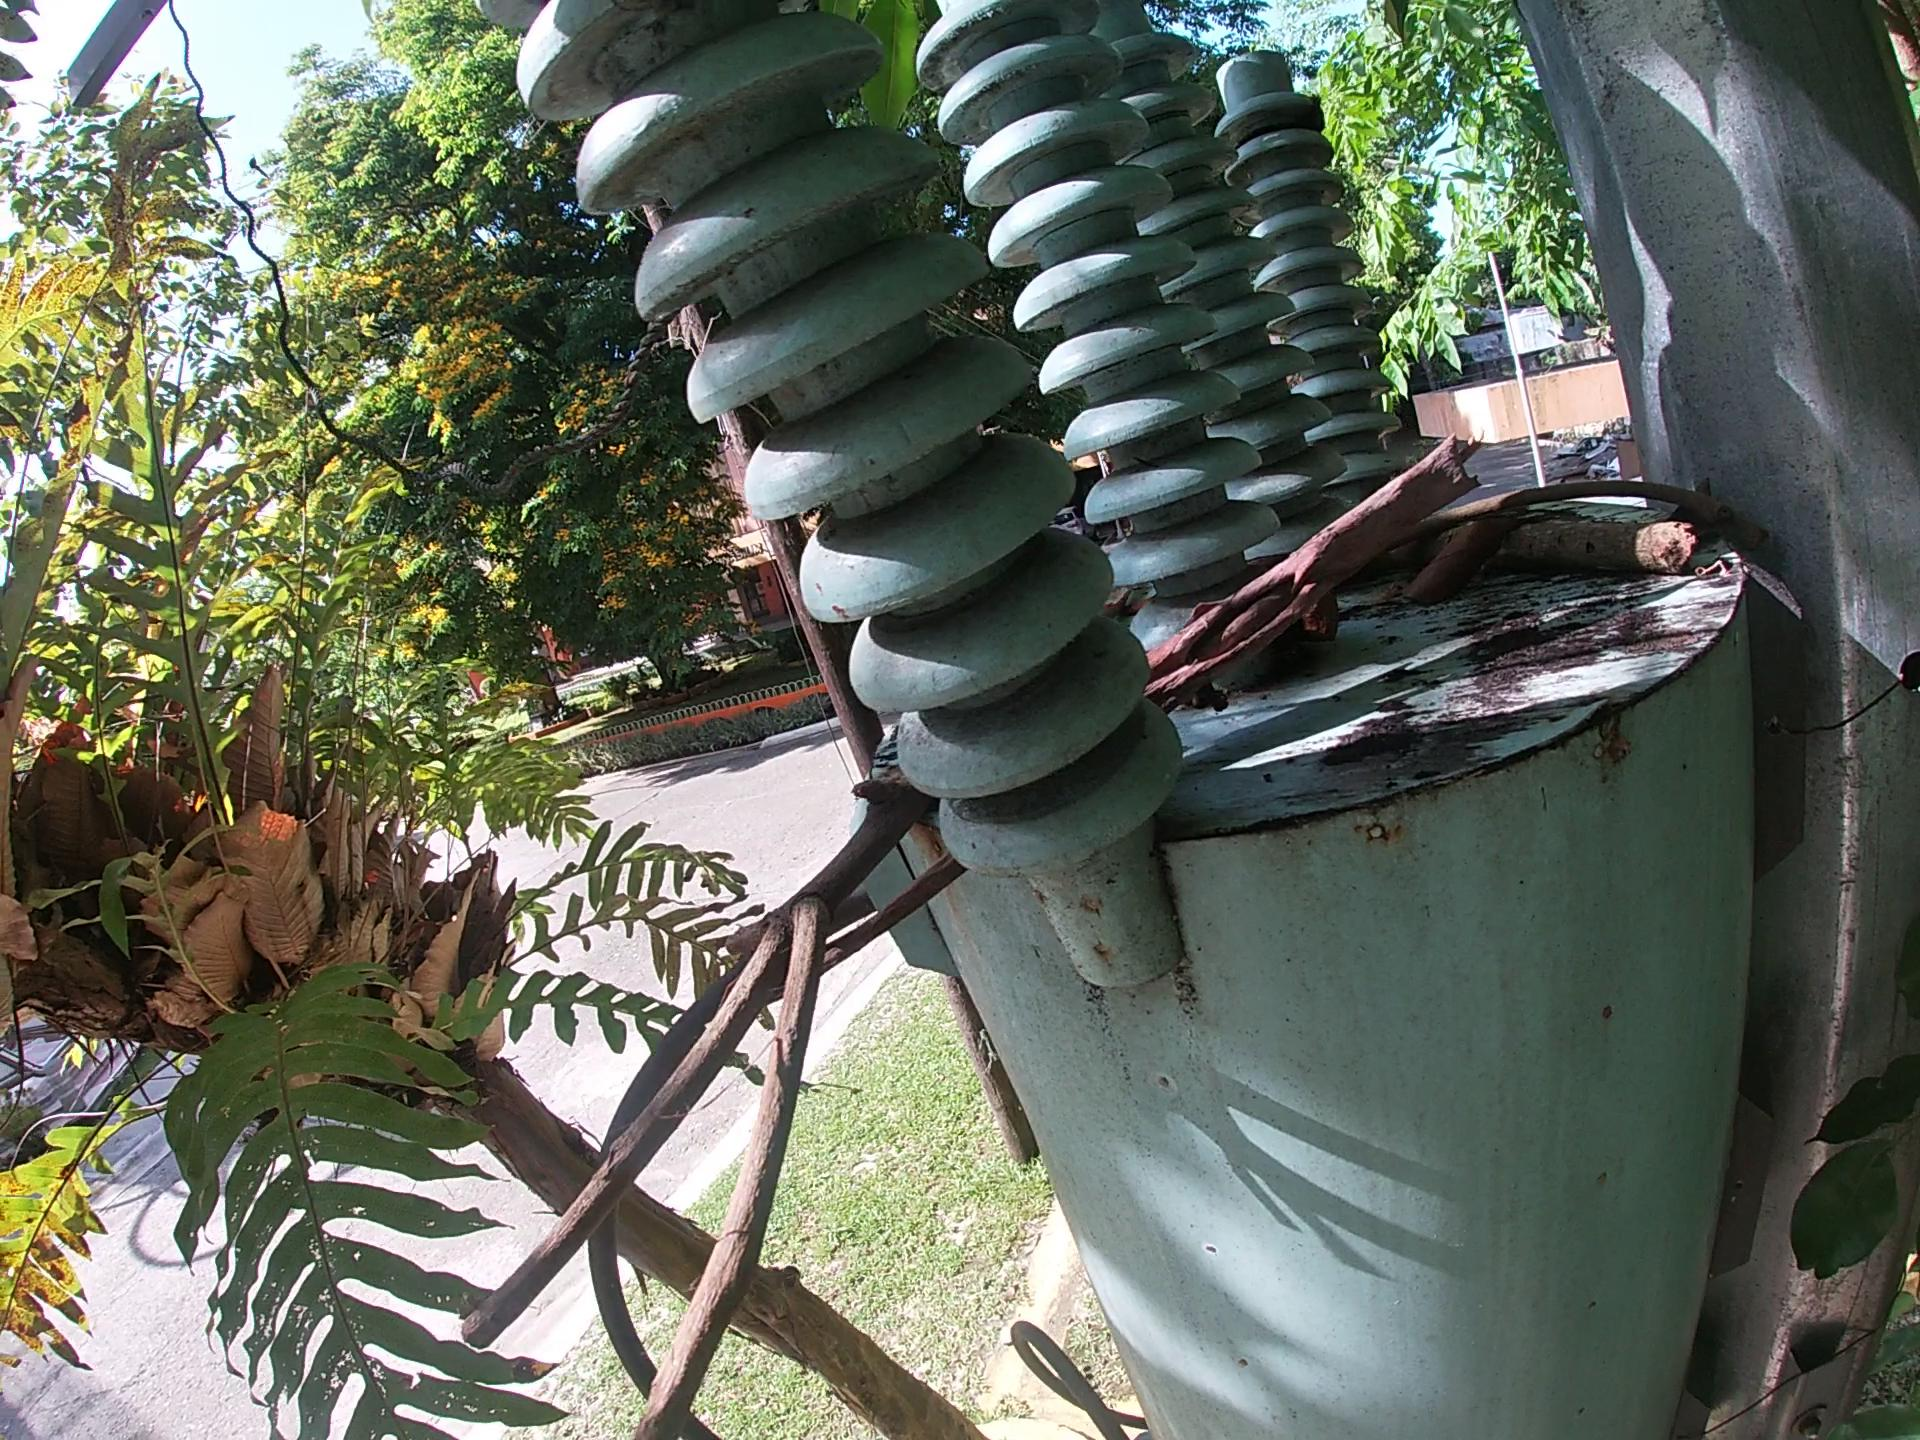leaf: (1380, 507, 1525, 616)
tree branch: (444, 762, 937, 1440), (1138, 434, 1485, 709), (729, 852, 962, 1006), (1406, 473, 1776, 557), (1388, 508, 1701, 576)
